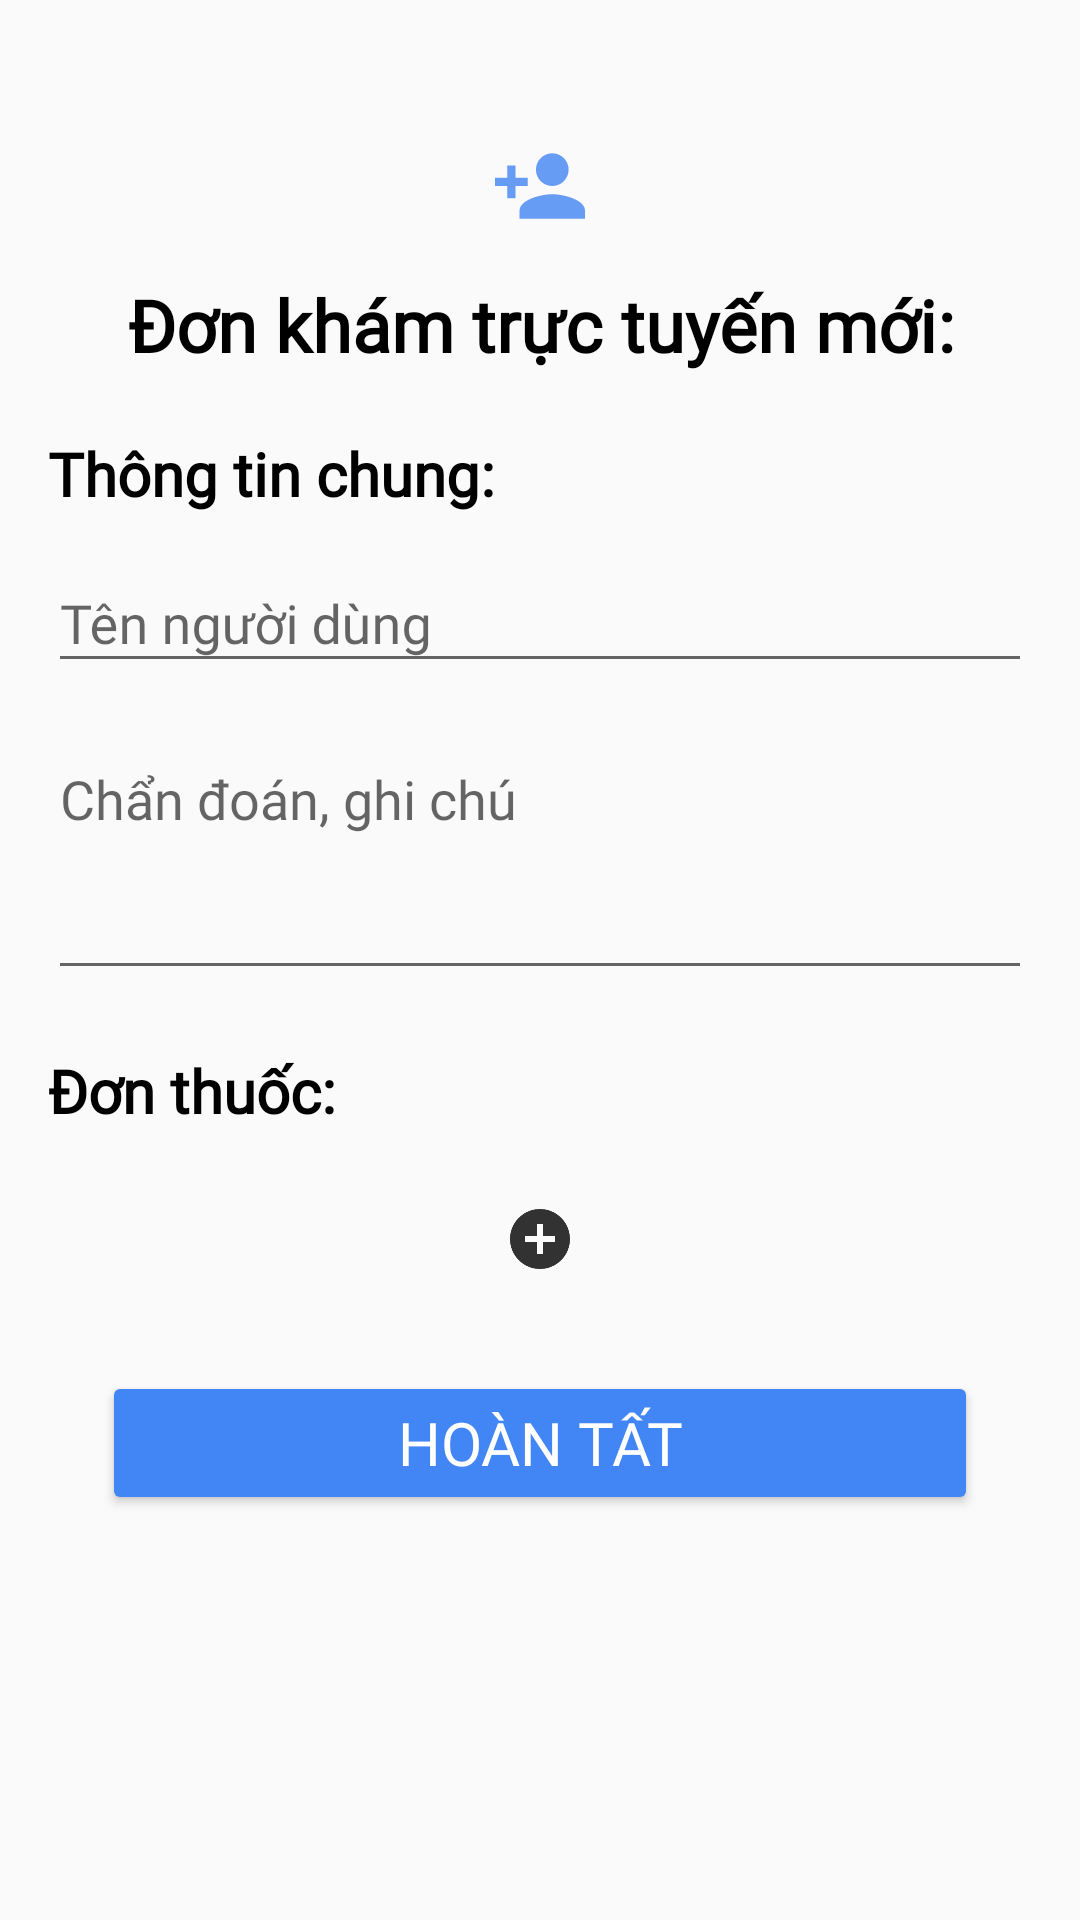

Screen size 1080w x 1920h. Icon name, then its box in pixels as bbox=[x1, y1, x2, y2]:
add person: bbox=[495, 153, 585, 219]
click to add: bbox=[510, 1209, 570, 1269]
